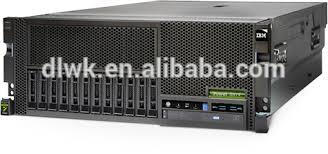ibm-server: (1, 1, 328, 134)
